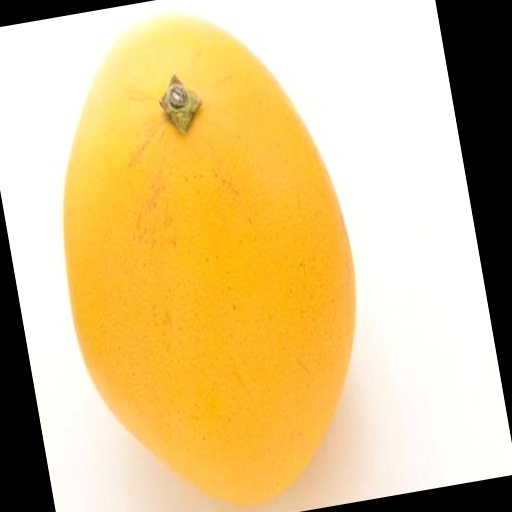fruit: (64, 16, 355, 504)
